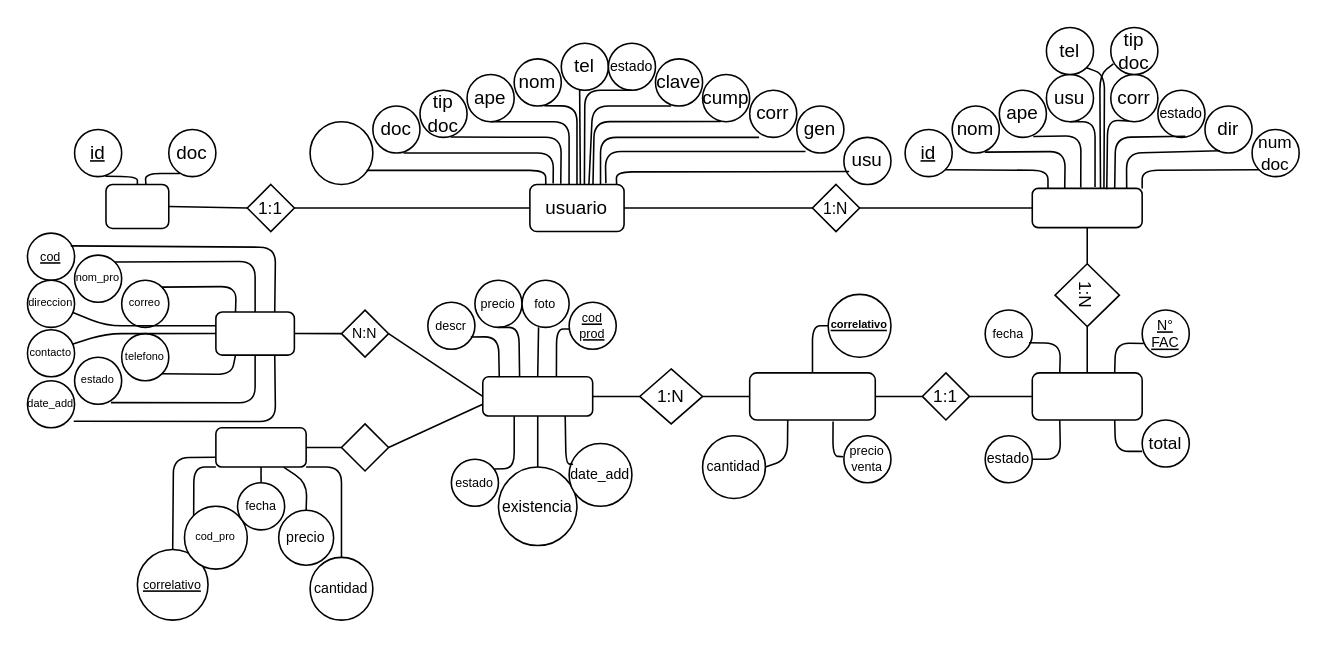
This 1327x648 diagram has some shape labels left out. The centre of each missing label's shape, as x and y in pixels:
"cliente" goes at point (1086, 207).
"detalle factura" goes at point (811, 395).
"entradas" goes at point (260, 446).
"factura" goes at point (1086, 395).
"id user" goes at point (341, 152).
"producto" goes at point (537, 395).
"proveedor" goes at point (254, 332).
"rol" goes at point (136, 205).
